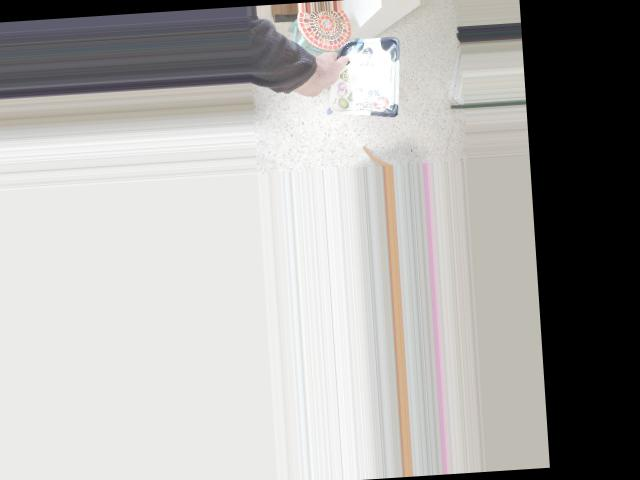cheese: (295, 35, 388, 120)
